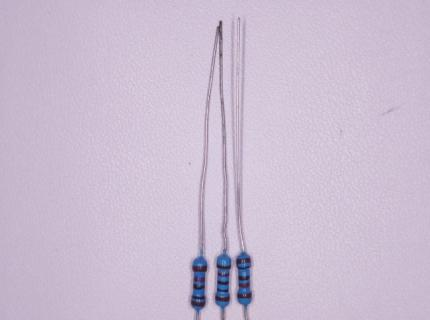Black band: (237, 264, 251, 271), (191, 294, 206, 300), (192, 284, 205, 290), (238, 276, 250, 281), (217, 281, 229, 285), (217, 288, 229, 292)
Brown band: (235, 257, 252, 265), (191, 300, 207, 308), (216, 263, 232, 270), (237, 292, 253, 299), (215, 296, 230, 303), (192, 266, 207, 272)
Red band: (193, 276, 206, 283), (217, 272, 229, 278), (238, 283, 250, 288)
